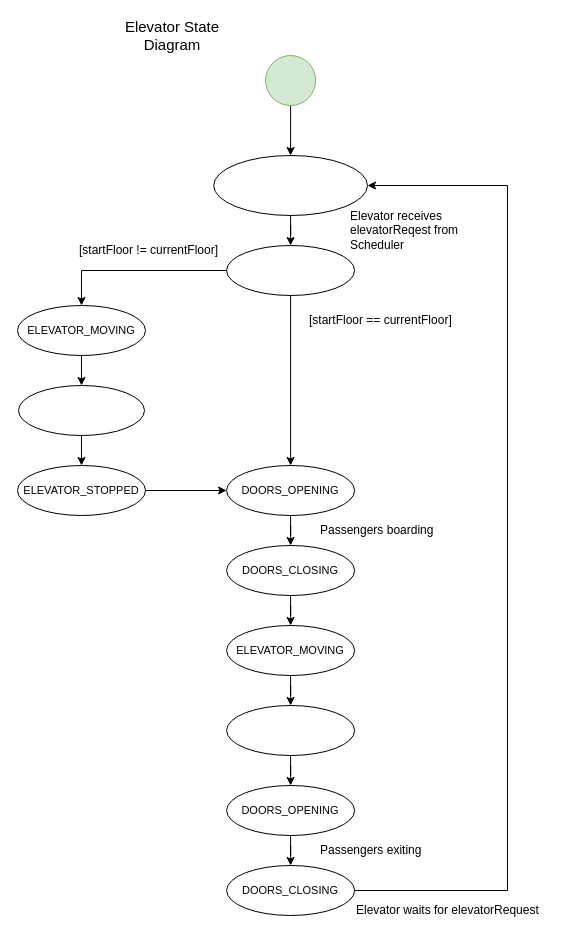
This 575x942 diagram has some shape labels left out. The shapes that lost their labels are listed below. From the top down, each one's centre as x and y in pixels, then its label:
At [290,185]: "ELEVATOR_IDLE_ WAITING_FOR_REQUEST".
At [290,270]: "FLOOR_REQUEST _RECEIVED".
At [81,410]: "ELEVATOR_ARRIVED @ startFloor".
At [290,730]: "ELEVATOR_ARRIVED @ destinationFloor".
